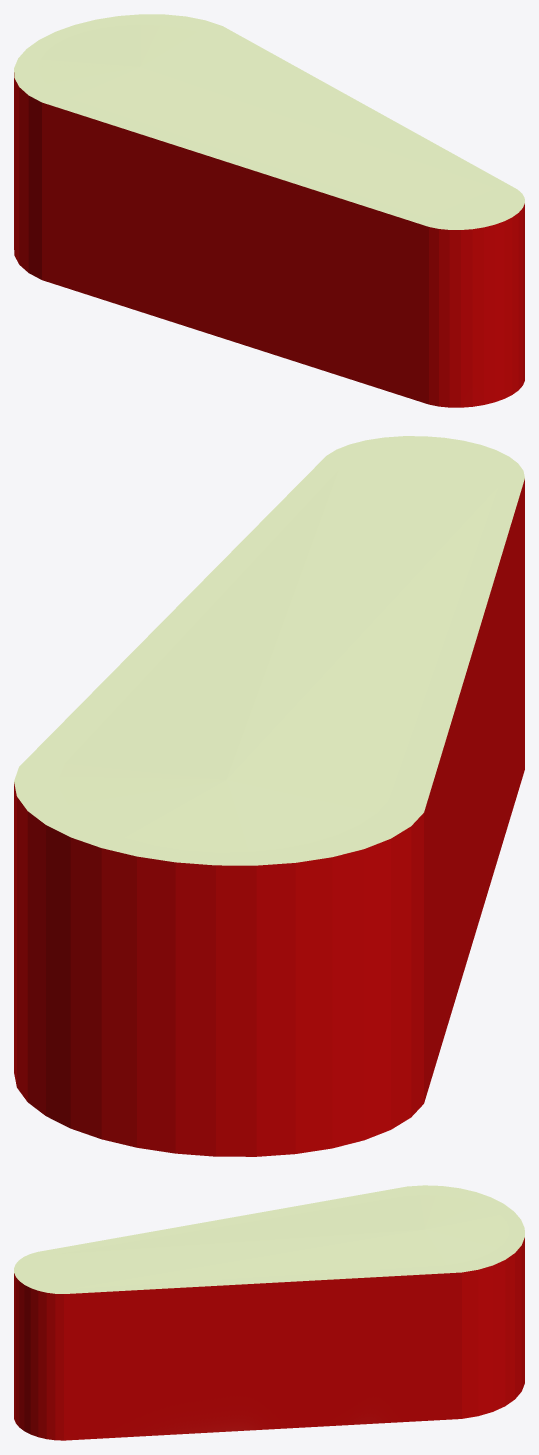
Rendered from FlipperL.obj.
The picture shows the model from 3 angles, top to bottom: view 1: azimuth 30°, elevation 25°; view 2: azimuth 150°, elevation 25°; view 3: azimuth 270°, elevation 25°; orthographic projection. The views are drawn at different scales.
Size of the model in its own units: 0.934 by 0.5899 by 1.85.
